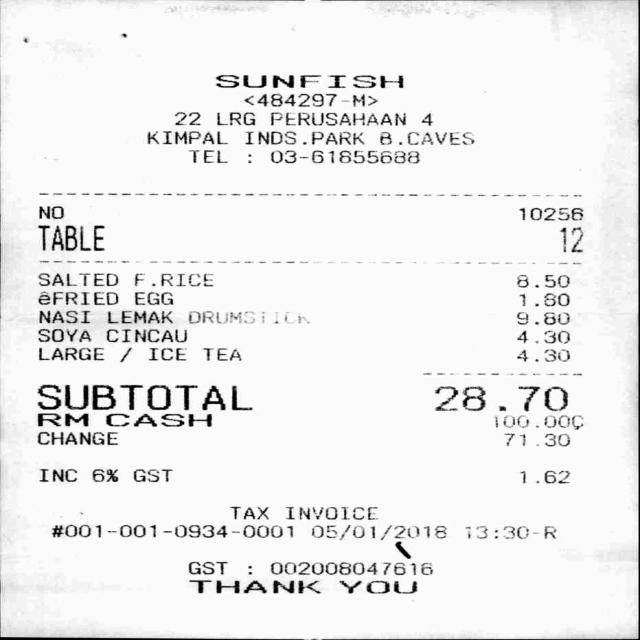text: (36, 384, 250, 409), (433, 386, 566, 410), (50, 524, 291, 536), (310, 524, 448, 542), (215, 74, 402, 87), (270, 561, 431, 574), (270, 111, 404, 125), (244, 92, 377, 106), (188, 579, 315, 593), (270, 150, 418, 162), (37, 224, 102, 250), (243, 130, 362, 144), (104, 412, 210, 426), (187, 311, 309, 323), (494, 415, 584, 429), (378, 131, 472, 144), (465, 525, 555, 538), (104, 328, 185, 342), (285, 506, 376, 518), (146, 130, 226, 143), (37, 272, 117, 285), (37, 291, 117, 304), (37, 431, 117, 444), (339, 580, 416, 593), (134, 273, 211, 285), (106, 310, 172, 323), (503, 433, 568, 446), (518, 207, 582, 220), (38, 347, 103, 359), (36, 412, 86, 426), (37, 328, 90, 341), (518, 292, 567, 306), (516, 274, 568, 287), (516, 311, 568, 324), (516, 330, 568, 343), (558, 226, 582, 253), (37, 310, 88, 322), (518, 470, 568, 482), (516, 349, 568, 360), (216, 112, 254, 125), (188, 149, 226, 162), (134, 291, 172, 304), (148, 347, 186, 360), (202, 347, 240, 360), (228, 506, 266, 519), (188, 561, 226, 574), (38, 469, 76, 481), (133, 469, 171, 481), (173, 112, 199, 124), (38, 205, 62, 218), (91, 469, 117, 481), (118, 346, 130, 361), (420, 112, 431, 125), (246, 565, 250, 574)
